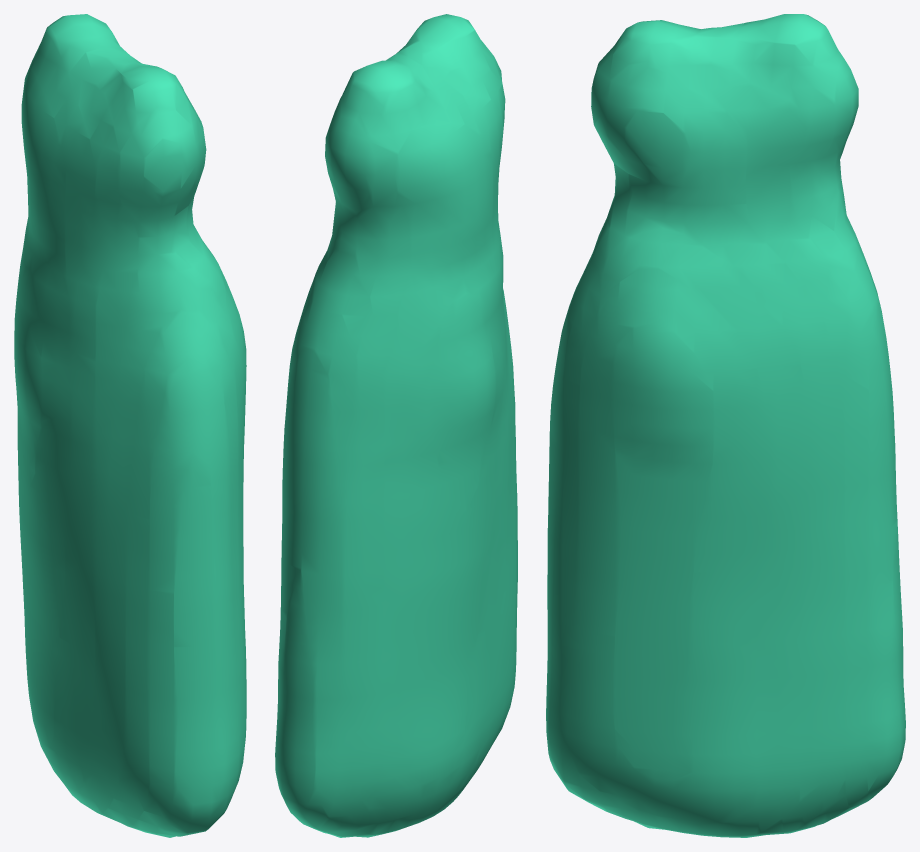
The picture shows the model from 3 angles, left to right: view 1: azimuth 30°, elevation 25°; view 2: azimuth 150°, elevation 25°; view 3: azimuth 270°, elevation 25°; orthographic projection. The views are drawn at different scales.
Visible parts, largest first — view 1: Liquid_Domain; view 2: Liquid_Domain; view 3: Liquid_Domain.
Boxes of the visible parts, x1,y1,x2,y2 form: Liquid_Domain: (14,14,246,837); Liquid_Domain: (275,14,517,837); Liquid_Domain: (546,14,905,837).
Bounding box in the file's own units: 1.47 × 6.03 × 2.47.
